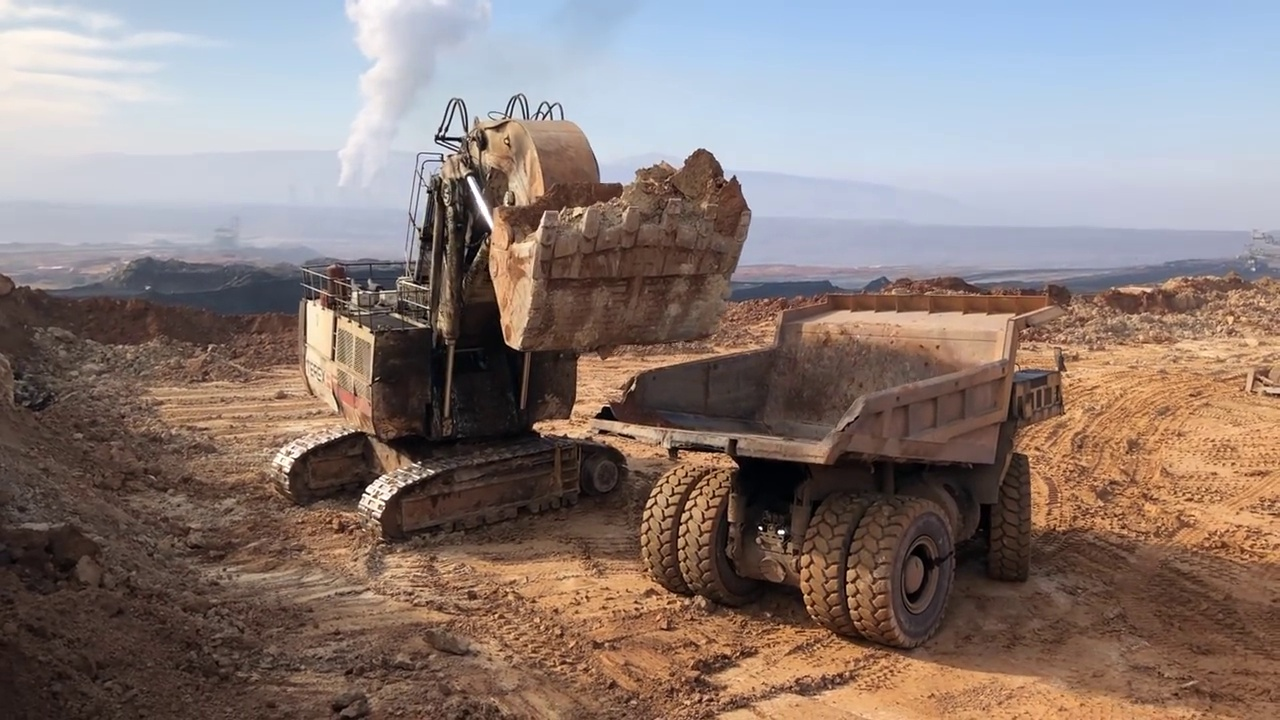dumper: (589, 292, 1067, 650)
excavator: (271, 98, 754, 545)
